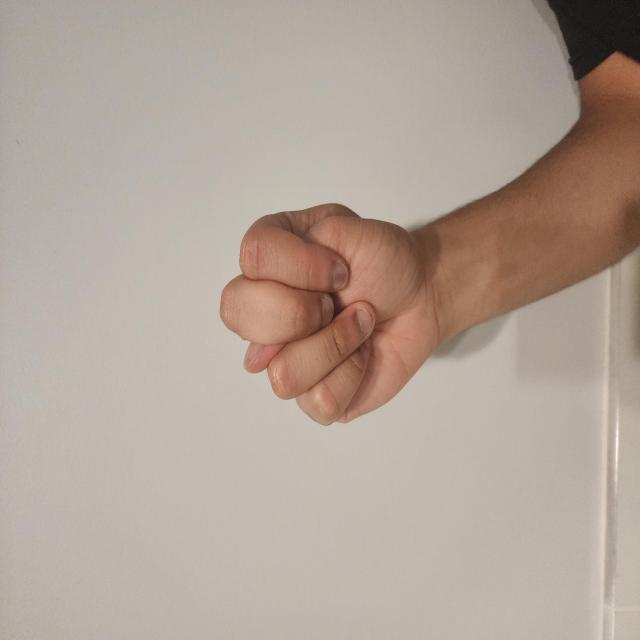N: (154, 289, 332, 589)
